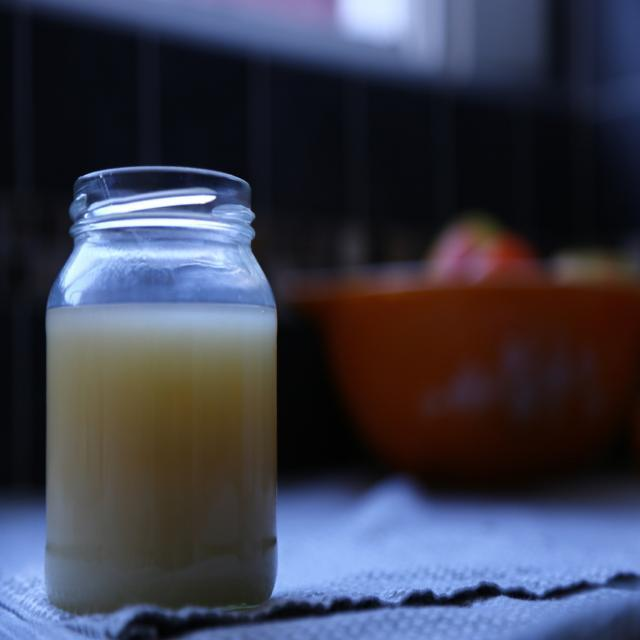Milk: (32, 137, 282, 631)
